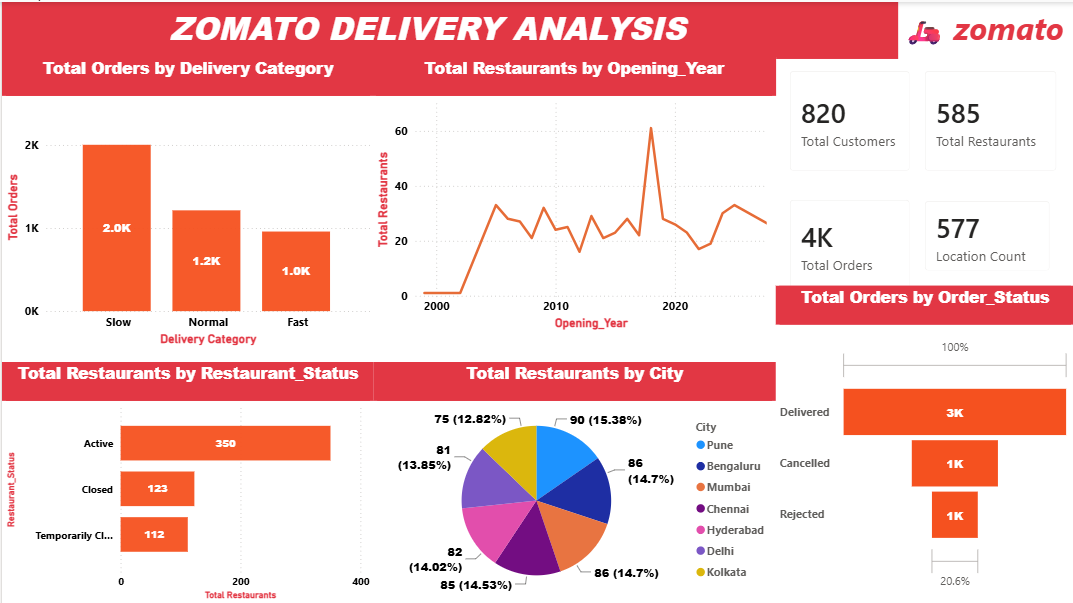

Layout of this report page (visuals, bound fields, positions):
{"tool":"powerbi","page":{"name":"Page 1","canvas":[1280,720],"ordinal":0},"visuals":[{"type":"columnChart","fields":{"Category":["Orders_2.Delivery Category"],"Y":["Orders_2.Total Orders"]},"box":[0,65.9,444.1,349.2],"z":0},{"type":"cardVisual","fields":{"Data":["Restaurants__2.Total Restaurants"]},"box":[1084.3,65.9,191.4,153.1],"z":1000},{"type":"cardVisual","fields":{"Data":["Orders_2.Total Orders"]},"box":[923.5,219,177.7,140.9],"z":2000},{"type":"cardVisual","fields":{"Data":["Customers_2.Total Customers"]},"box":[923.5,65.9,177.7,153.1],"z":3000},{"type":"cardVisual","fields":{"Data":["Categories_Location_2.Location Count"]},"box":[1084.3,220.5,183.8,117.9],"z":4000},{"type":"textbox","box":[0,0,1070.2,68.1],"z":5000},{"type":"textbox","box":[0,417,444,152],"z":6000},{"type":"textbox","box":[1070.2,0,210.1,68.1],"z":7000},{"type":"lineChart","fields":{"Category":["Restaurants__2.Opening_Year"],"Y":["Restaurants__2.Total Restaurants"]},"box":[441.1,65.9,482.4,330.8],"z":8000},{"type":"barChart","fields":{"Category":["Restaurants__2.Restaurant_Status"],"Y":["Restaurants__2.Total Restaurants"]},"box":[0,430.3,444.1,289.4],"z":9000},{"type":"pieChart","fields":{"Category":["Restaurants__2.City"],"Y":["Restaurants__2.Total Restaurants"]},"box":[442.6,430.3,480.9,289.4],"z":10000},{"type":"funnel","fields":{"Category":["Orders_2.Order_Status"],"Y":["Orders_2.Total Orders"]},"box":[923.5,338.5,356.8,381.3],"z":11000}]}

Visuals, with their boxes in screenshot pixels (x1, y1, x2, y2), scaled from the page's 1280x720 canvas onto the 1073x603 screenshot:
columnChart - Orders_2.Delivery Category x Orders_2.Total Orders: (0,55,372,348)
cardVisual - Restaurants__2.Total Restaurants: (909,55,1069,183)
cardVisual - Orders_2.Total Orders: (774,183,923,301)
cardVisual - Customers_2.Total Customers: (774,55,923,183)
cardVisual - Categories_Location_2.Location Count: (909,185,1063,283)
textbox: (0,0,897,57)
textbox: (0,349,372,477)
textbox: (897,0,1072,57)
lineChart - Restaurants__2.Opening_Year x Restaurants__2.Total Restaurants: (370,55,774,332)
barChart - Restaurants__2.Restaurant_Status x Restaurants__2.Total Restaurants: (0,360,372,602)
pieChart - Restaurants__2.City x Restaurants__2.Total Restaurants: (371,360,774,602)
funnel - Orders_2.Order_Status x Orders_2.Total Orders: (774,283,1072,602)
